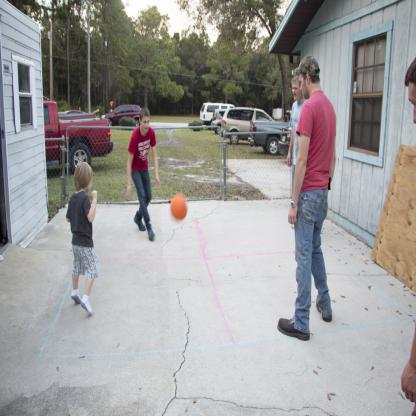Ball: (170, 192, 186, 219)
